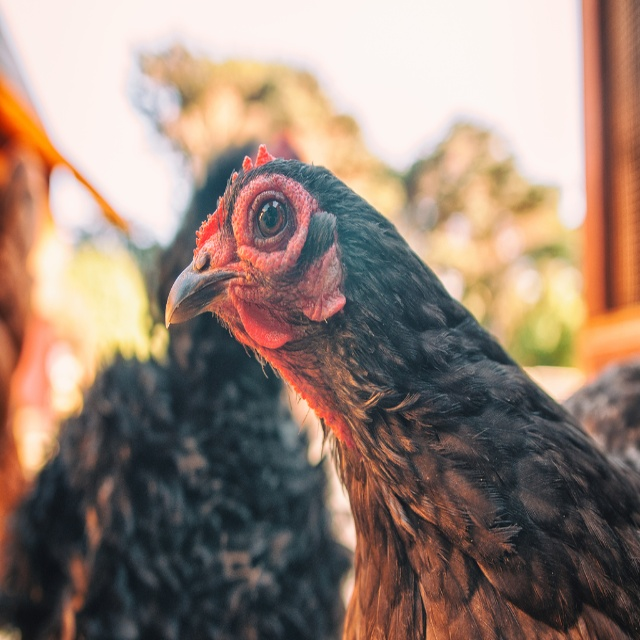Chicken: (176, 145, 640, 610)
